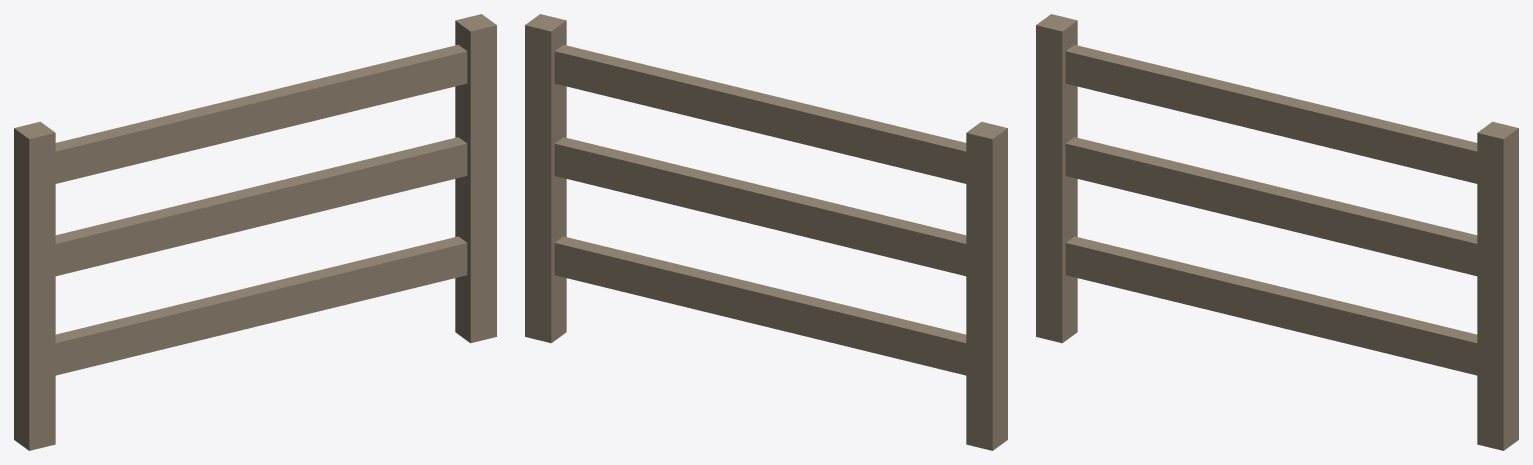
Rendered from fence.glb.
3 renders of one model, left to right at view 1: azimuth 30°, elevation 25°; view 2: azimuth 150°, elevation 25°; view 3: azimuth 330°, elevation 25°, orthographic.
Visible parts, largest first — view 1: fence; view 2: fence; view 3: fence.
Boxes of the visible parts, bbox=[...] form: fence: bbox=[14, 14, 496, 450]; fence: bbox=[525, 14, 1007, 450]; fence: bbox=[1036, 14, 1518, 450].
Bounding box in the file's own units: 2.12 × 1.35 × 0.12.
